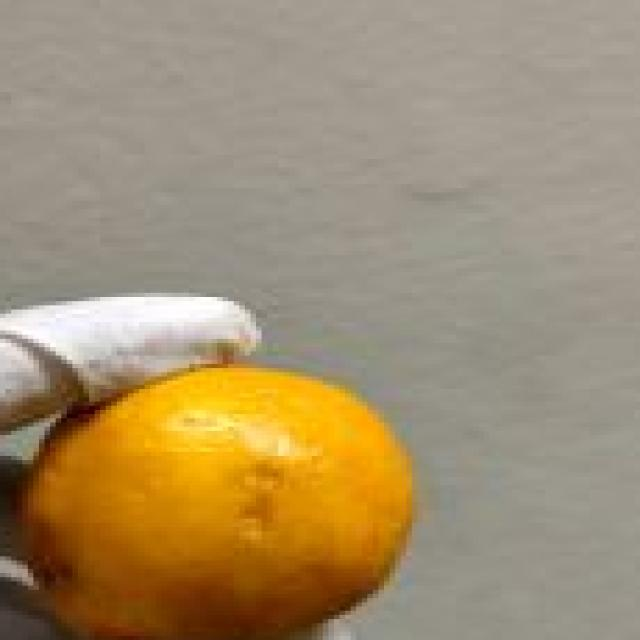Bad_Orange-0-1 day: (17, 364, 423, 640)
